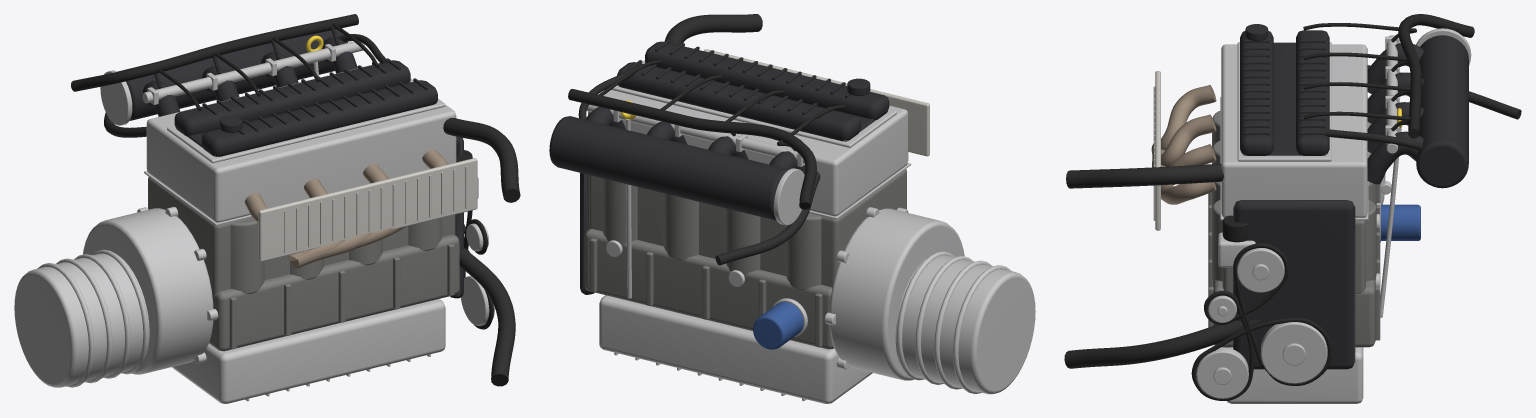
File: Engine_I4.fbx
3 renders of one model, left to right at view 1: azimuth 30°, elevation 25°; view 2: azimuth 150°, elevation 25°; view 3: azimuth 270°, elevation 25°, orthographic. The views are drawn at different scales.
Visible parts, largest first — view 1: Engine_I4_LOD0; view 2: Engine_I4_LOD0; view 3: Engine_I4_LOD0.
Part boxes in pixels (x1,y1,x2,y2): Engine_I4_LOD0: (14,14,520,403); Engine_I4_LOD0: (549,14,1035,403); Engine_I4_LOD0: (1064,14,1521,403).
Size of what is drawn, in the model's own units: 1 by 0.6662 by 0.9562.
